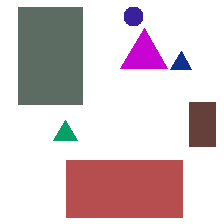circle: (124, 7, 142, 25)
rectangle: (66, 160, 182, 217), (18, 7, 82, 104), (189, 102, 215, 146)
triangle: (120, 28, 167, 68), (53, 120, 77, 140), (170, 51, 191, 69)
